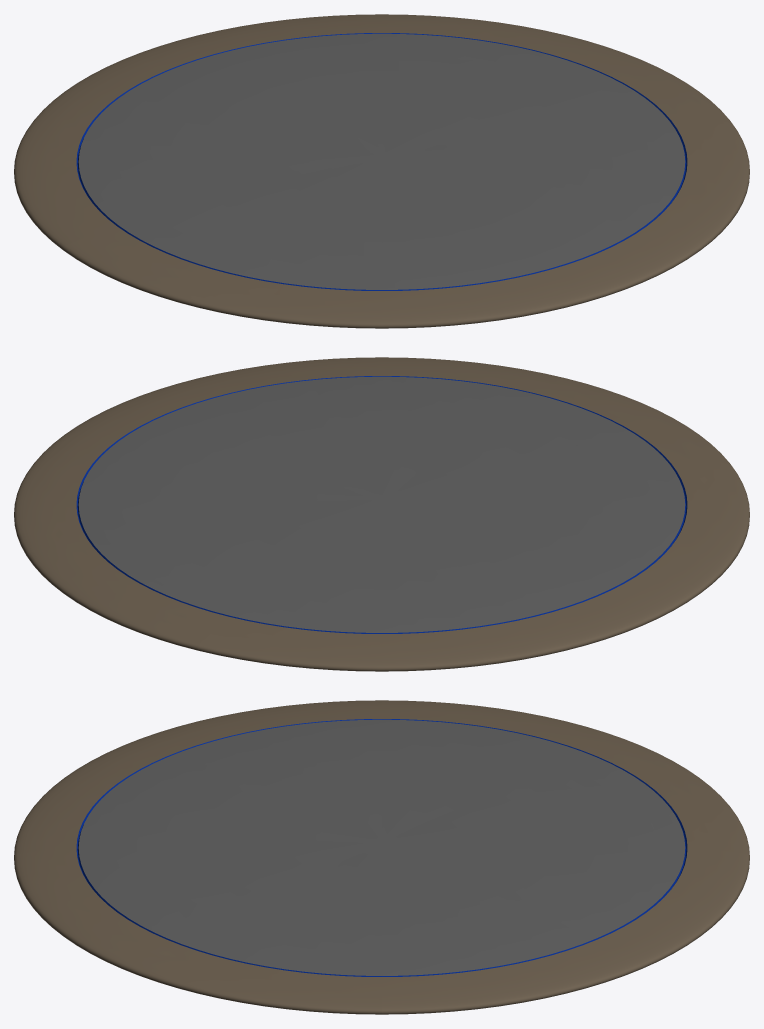
File: Button.FBX
The picture shows the model from 3 angles, top to bottom: view 1: azimuth 30°, elevation 25°; view 2: azimuth 150°, elevation 25°; view 3: azimuth 270°, elevation 25°; orthographic projection.
Visible parts, largest first — view 1: Button; view 2: Button; view 3: Button.
Boxes of the visible parts, <box> form: Button: <box>14,14,749,328</box>; Button: <box>14,357,749,671</box>; Button: <box>14,700,749,1014</box>.
Size of the model in its own units: 200 by 200 by 10.
